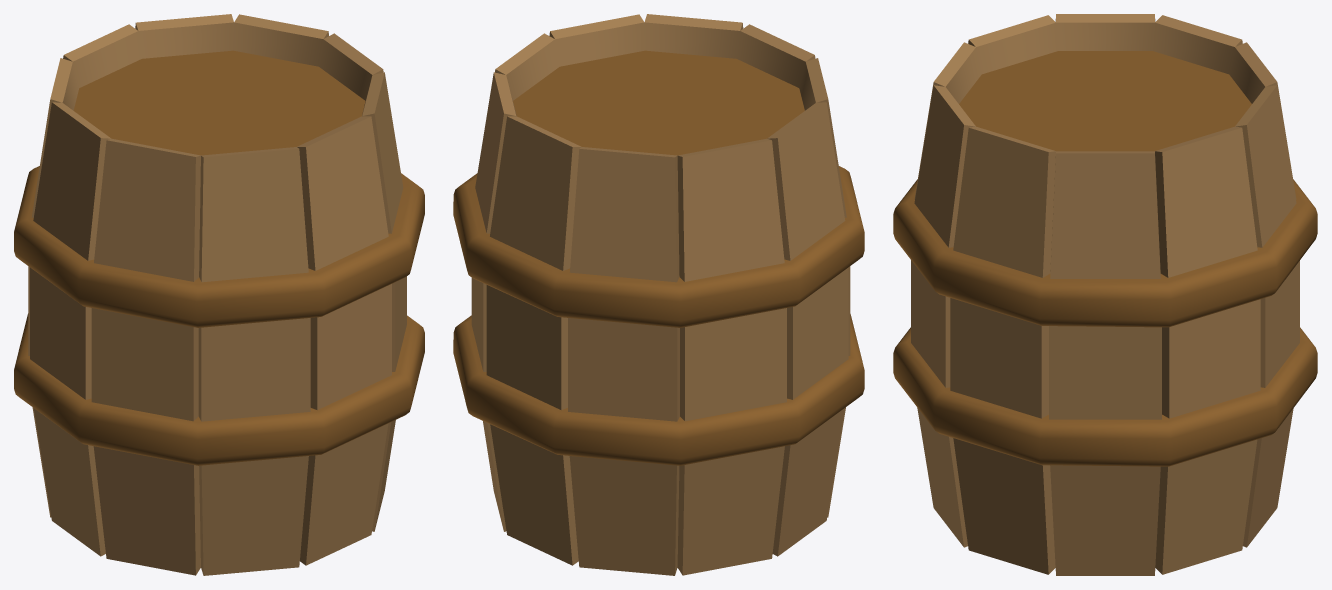
The model's file is Wood Barrel.fbx.
The picture shows the model from 3 angles, left to right: view 1: azimuth 30°, elevation 25°; view 2: azimuth 150°, elevation 25°; view 3: azimuth 270°, elevation 25°; orthographic projection.
Visible parts, largest first — view 1: Wood Barrel; view 2: Wood Barrel; view 3: Wood Barrel.
Boxes of the visible parts, x1,y1,x2,y2 form: Wood Barrel: (14, 14, 424, 575); Wood Barrel: (453, 14, 864, 575); Wood Barrel: (893, 14, 1317, 575).
Size of the model in its own units: 0.5498 by 0.6348 by 0.5774.
